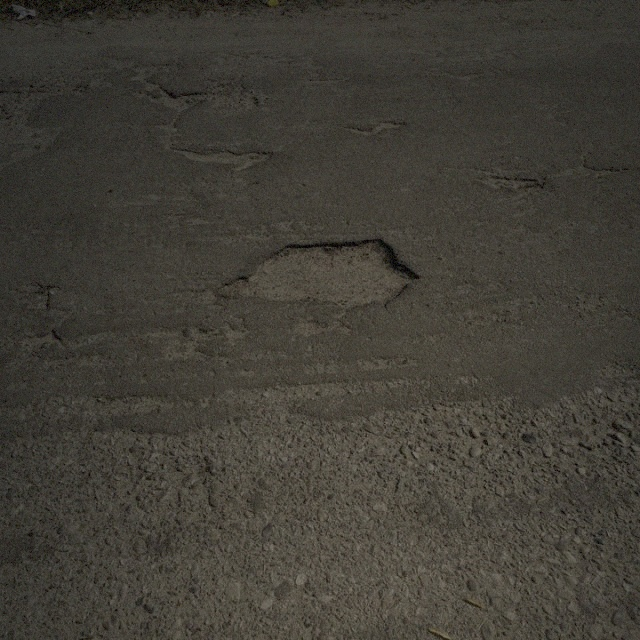pothole: (217, 233, 423, 308), (133, 76, 210, 112), (166, 146, 276, 162)
